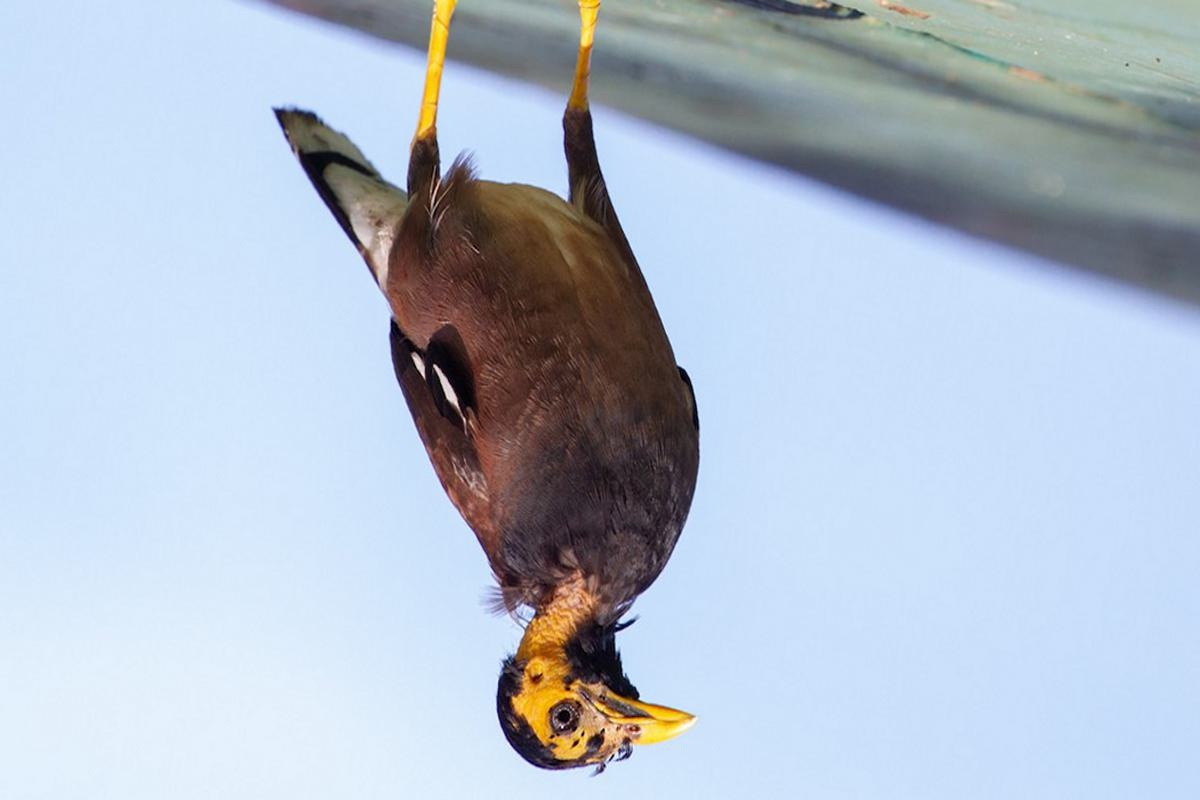myna: (298, 1, 735, 785)
